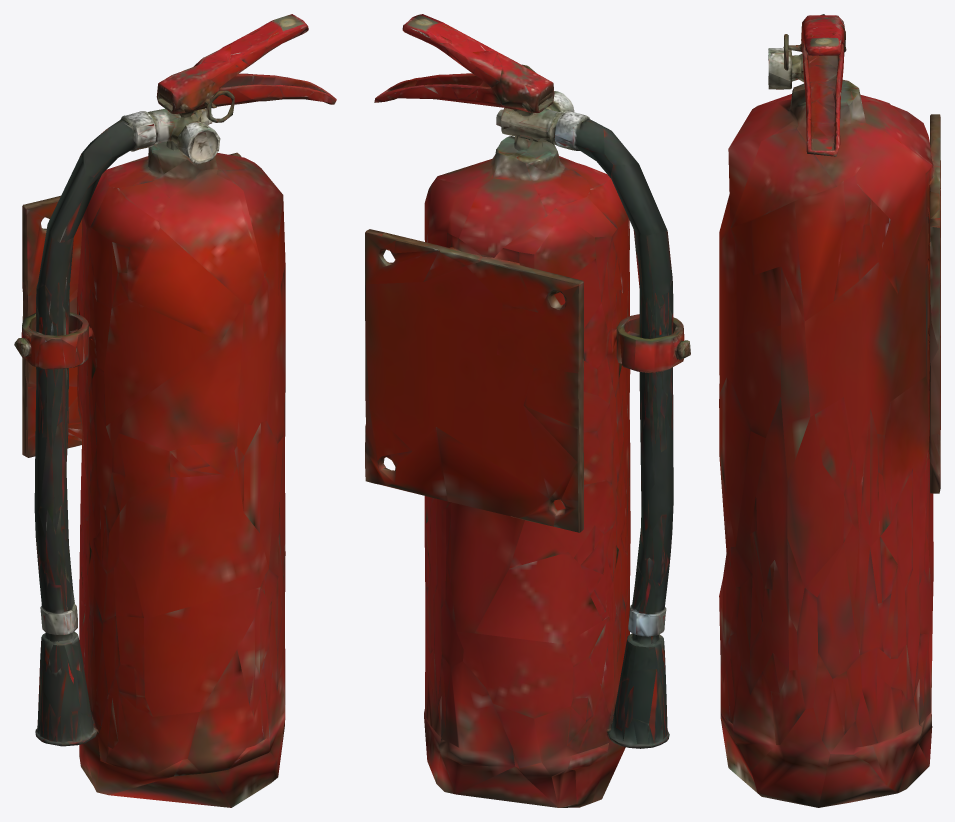
The model's file is fire_extinguisher.fc2c7d6d83.glb.
The picture shows the model from 3 angles, left to right: view 1: azimuth 30°, elevation 25°; view 2: azimuth 150°, elevation 25°; view 3: azimuth 270°, elevation 25°; orthographic projection. The views are drawn at different scales.
Visible parts, largest first — view 1: fire_extinguisher; view 2: fire_extinguisher; view 3: fire_extinguisher.
Part boxes in pixels (x1,y1,x2,y2): fire_extinguisher: (14,14,336,807); fire_extinguisher: (365,14,690,807); fire_extinguisher: (719,14,940,807).
Size of the model in its own units: 0.2748 by 0.6185 by 0.1589.
1 material, 1 textured.
